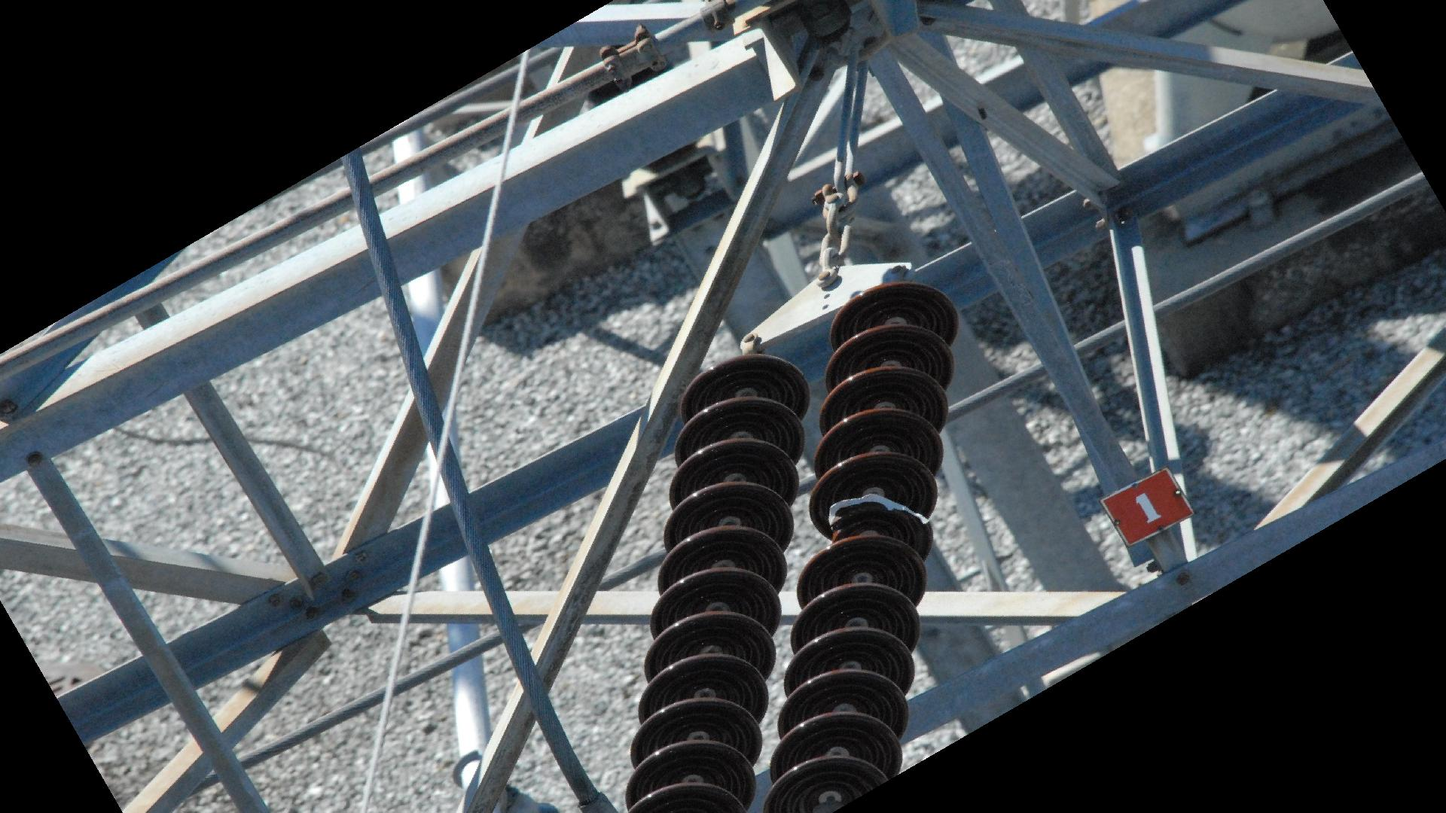insulator: (756, 279, 966, 813), (621, 349, 818, 813)
insulator_breakage: (824, 490, 935, 529)
